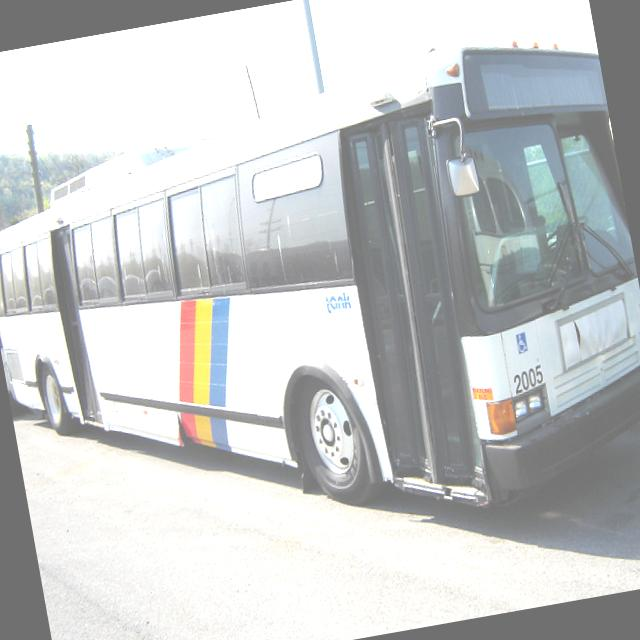Vehicle: (0, 24, 640, 583)
